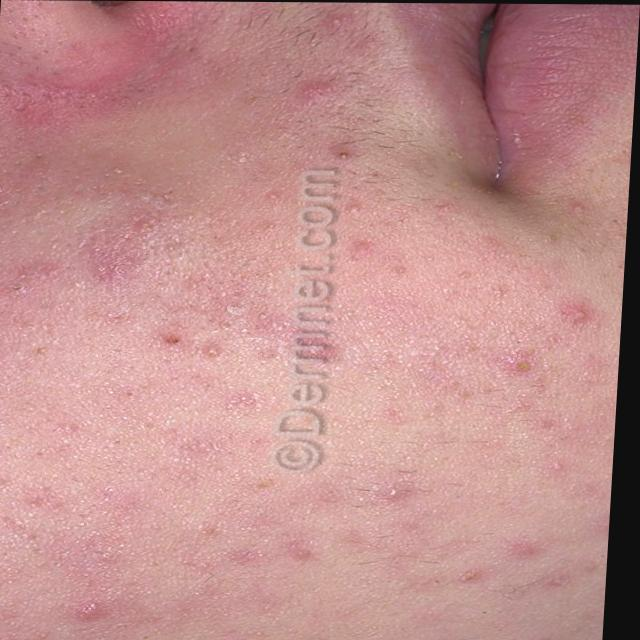blackheads: (195, 341, 235, 361), (77, 601, 117, 619), (333, 144, 355, 166), (567, 305, 592, 323), (389, 487, 405, 499), (330, 12, 341, 22), (557, 463, 567, 468)
